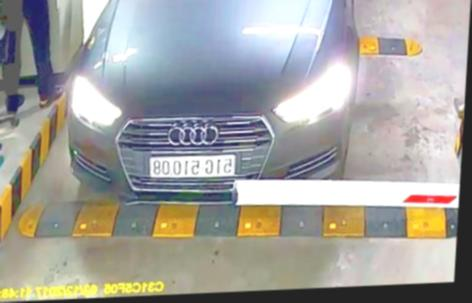License_Plate: (150, 151, 238, 181)
